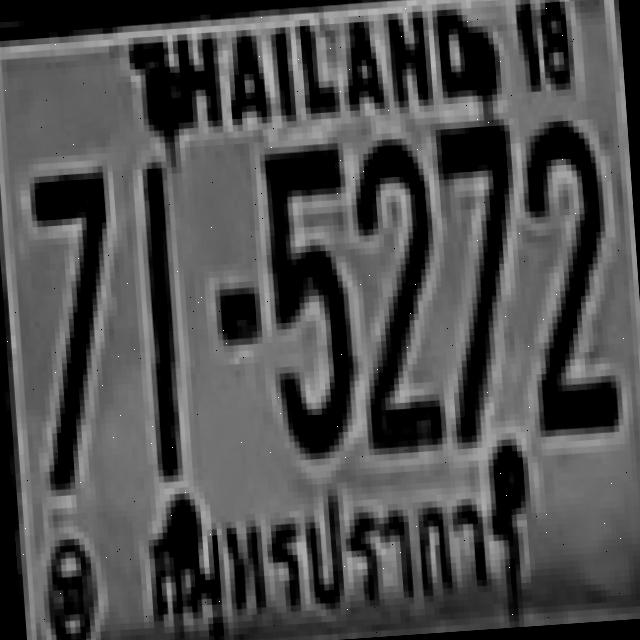1: (119, 146, 203, 492)
2: (516, 115, 612, 378), (348, 146, 440, 408), (347, 133, 438, 390), (520, 184, 616, 427)
5: (245, 126, 372, 480)
7: (432, 121, 520, 328), (430, 119, 516, 298), (29, 168, 114, 348)
SamutPrakan: (135, 475, 542, 640)
